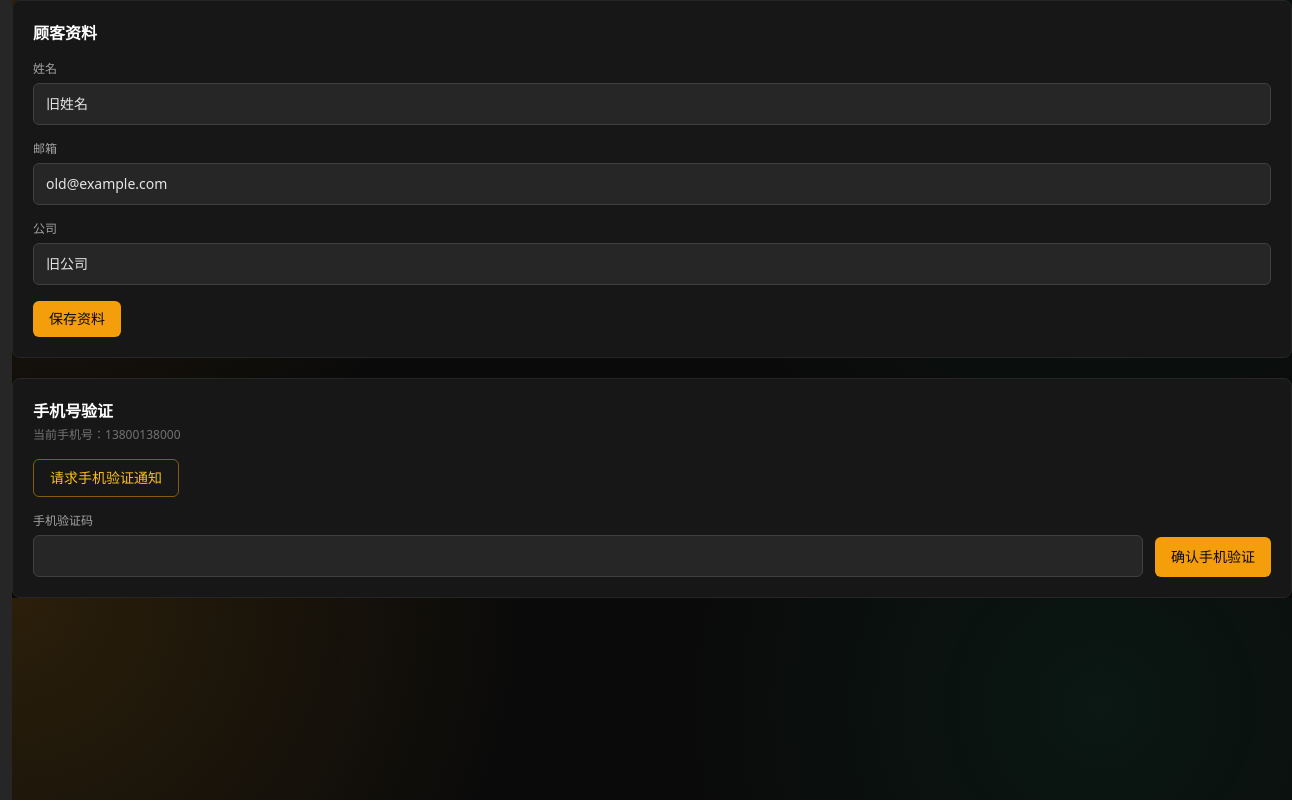
Test: CustomerProfilePanel › requests a controlled verification notification without rendering a returned code
Click the button "请求手机验证通知" at (106, 478), box 33,459 -> 179,497
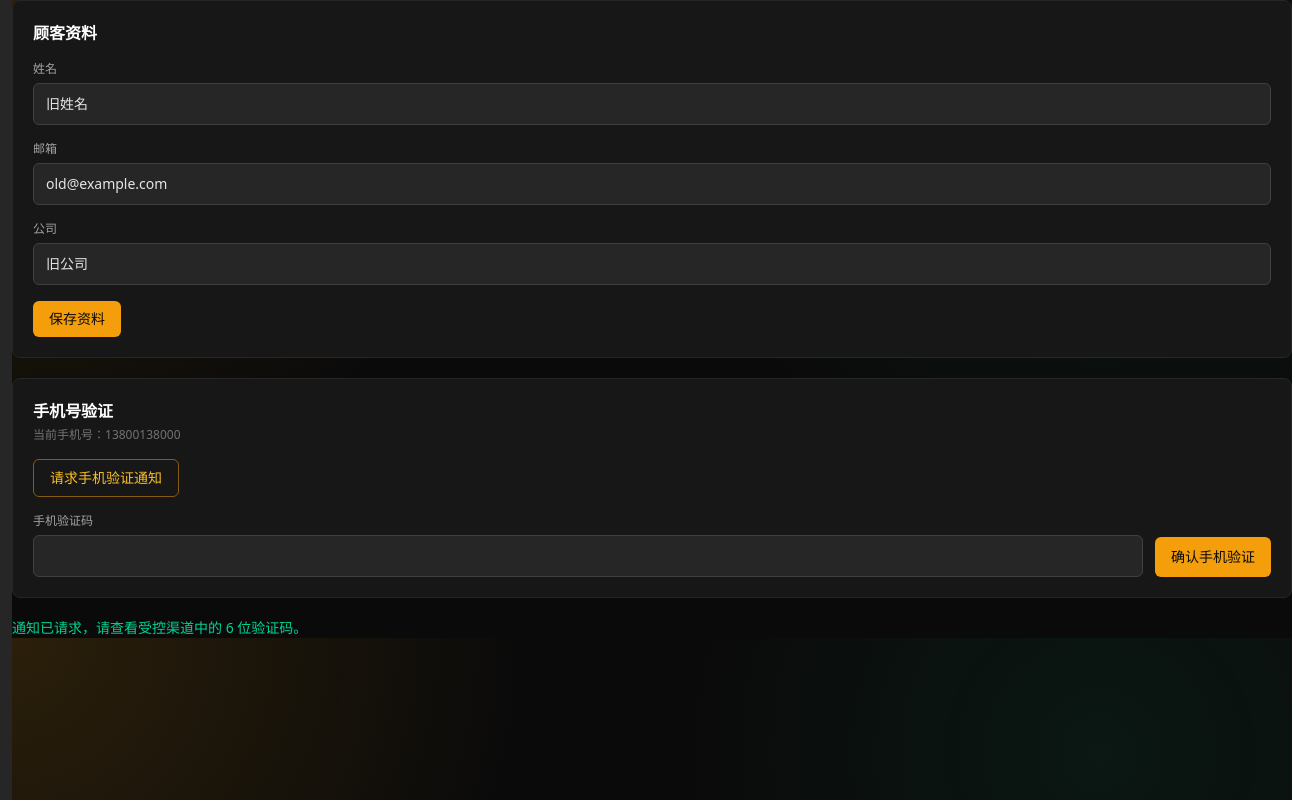
expect the message reads "通知已请求，请查看受控渠道中的 6 位验证码。": met, box 12,618 -> 307,637
